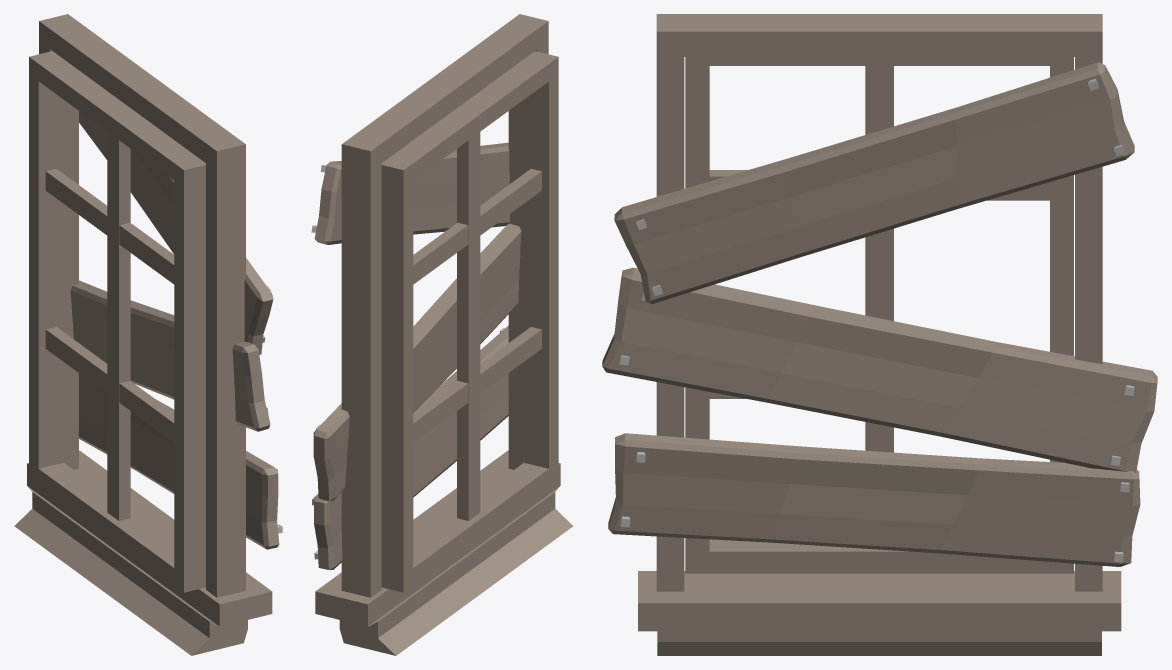
The model's file is Wall_Window02.fbx.
3 views of the same model, side by side, from view 1: azimuth 30°, elevation 25°; view 2: azimuth 150°, elevation 25°; view 3: azimuth 270°, elevation 25° (orthographic). The views are drawn at different scales.
Parts seen in each view (by area): view 1: Wall_Window02; view 2: Wall_Window02; view 3: Wall_Window02.
Part boxes in pixels (x1=…): Wall_Window02: x1=14, y1=14, x2=282, y2=655; Wall_Window02: x1=311, y1=14, x2=573, y2=655; Wall_Window02: x1=602, y1=14, x2=1157, y2=655.
Size of the model in its own units: 48.05 by 293 by 236.
